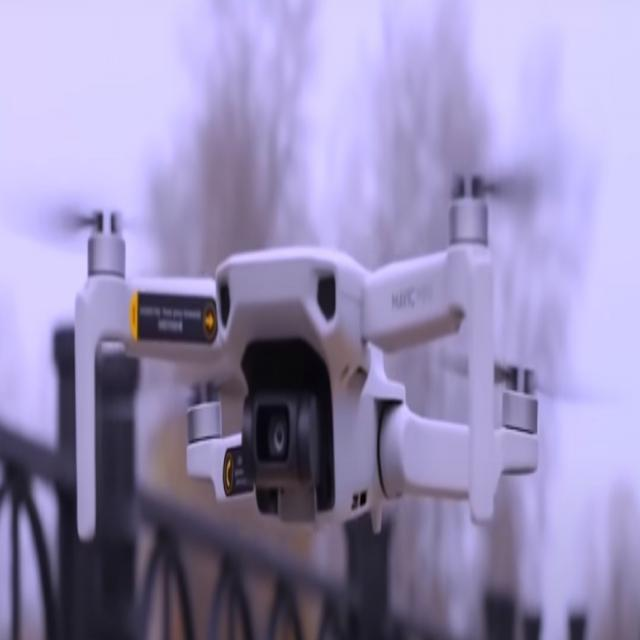drone: (38, 127, 584, 541)
